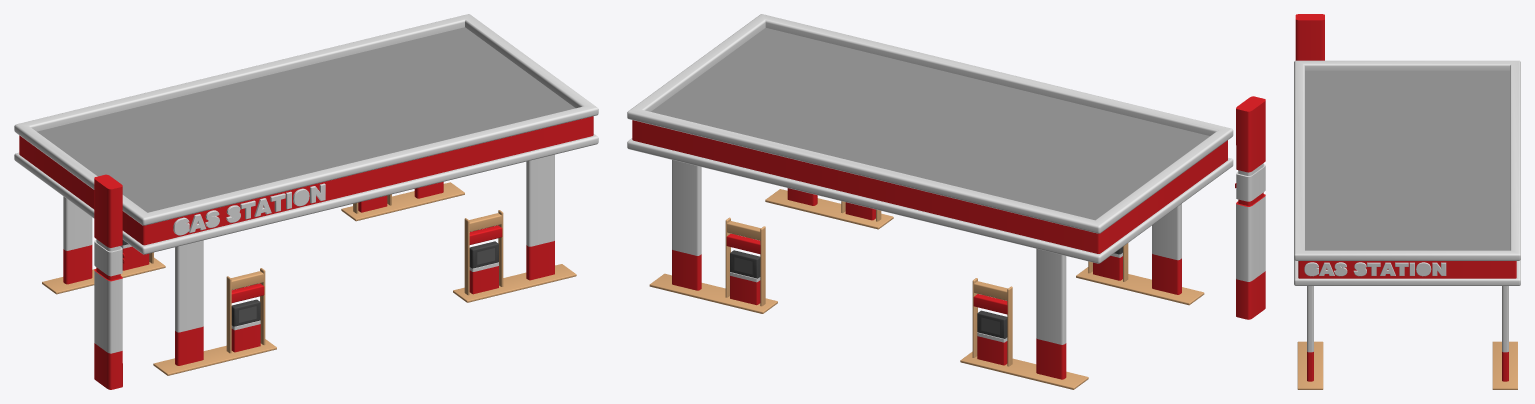
Rendered from gasStation.fbx.
3 renders of one model, left to right at view 1: azimuth 30°, elevation 25°; view 2: azimuth 150°, elevation 25°; view 3: azimuth 270°, elevation 25°, orthographic. The views are drawn at different scales.
Parts seen in each view (by area): view 1: gasStation; view 2: gasStation; view 3: gasStation.
Part boxes in pixels (box(x1,y1,x2,y2)): gasStation: box(14, 14, 598, 389); gasStation: box(627, 14, 1265, 389); gasStation: box(1294, 14, 1520, 389).
Bounding box in the file's own units: 2339 × 921 × 1075.
